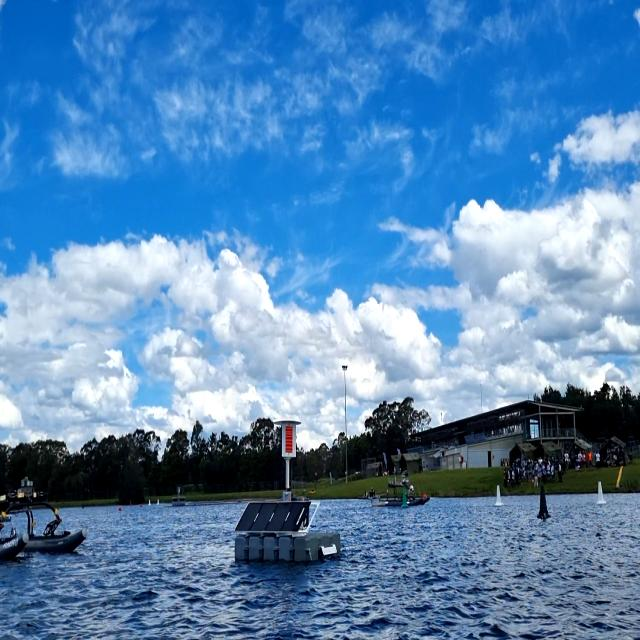led: (283, 424, 295, 456)
